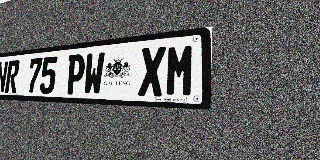5: (39, 56, 58, 94)
7: (26, 58, 43, 94)
M: (165, 43, 196, 97)
N: (0, 61, 9, 93)
P: (65, 54, 86, 95)
R: (5, 60, 20, 93)
W: (83, 52, 105, 95)
X: (138, 46, 166, 97)
